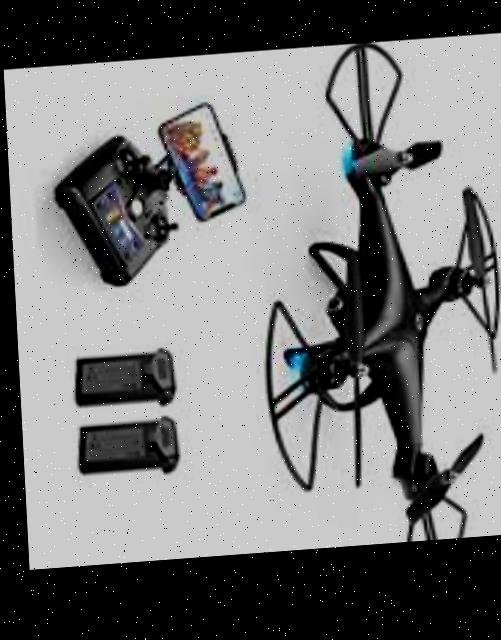drone: (233, 40, 501, 557)
